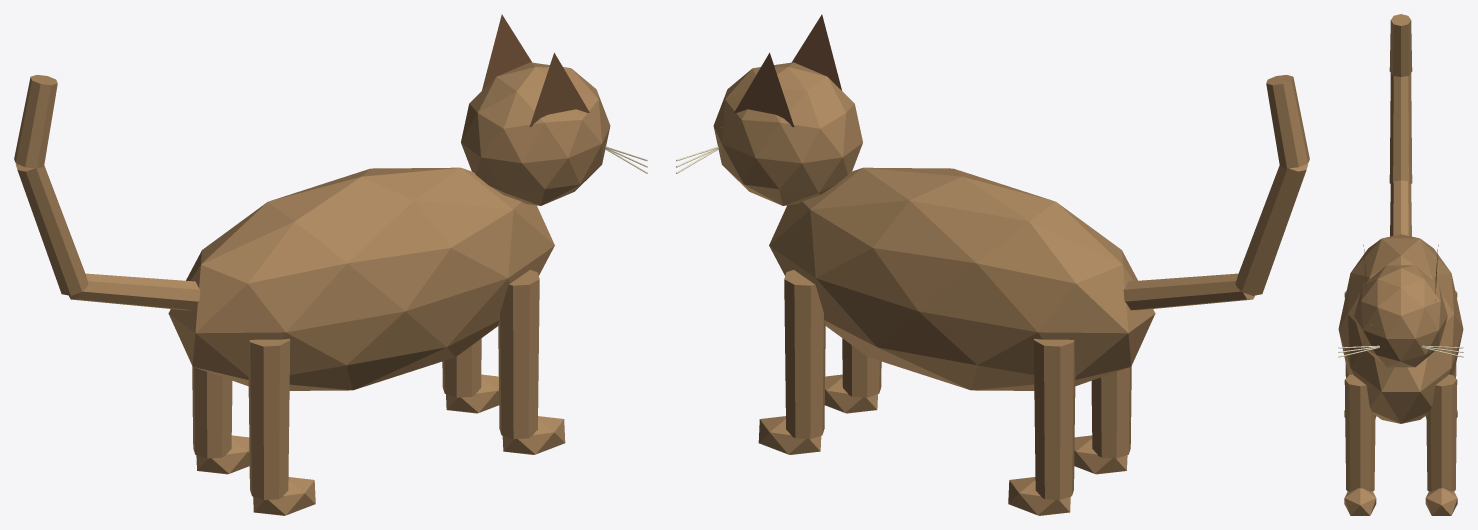
The picture shows the model from 3 angles, left to right: view 1: azimuth 30°, elevation 25°; view 2: azimuth 150°, elevation 25°; view 3: azimuth 270°, elevation 25°; orthographic projection. The views are drawn at different scales.
Parts seen in each view (by area): view 1: GF-171 Garden household cat batched; view 2: GF-171 Garden household cat batched; view 3: GF-171 Garden household cat batched.
Part boxes in pixels (x1,y1,x2,y2): GF-171 Garden household cat batched: (14, 14, 647, 515); GF-171 Garden household cat batched: (676, 14, 1309, 515); GF-171 Garden household cat batched: (1338, 14, 1463, 515).
Bounding box in the file's own units: 0.7785 × 0.5932 × 0.2005.
